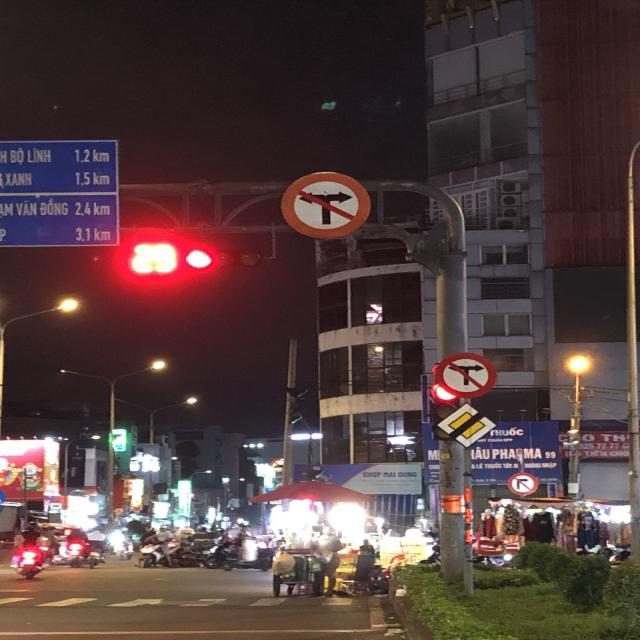Bien bao cam re phai: (503, 470, 542, 499)
